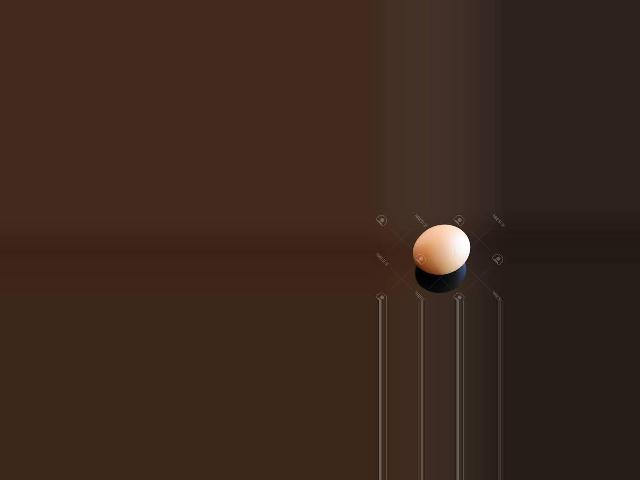egg: (412, 224, 470, 275)
